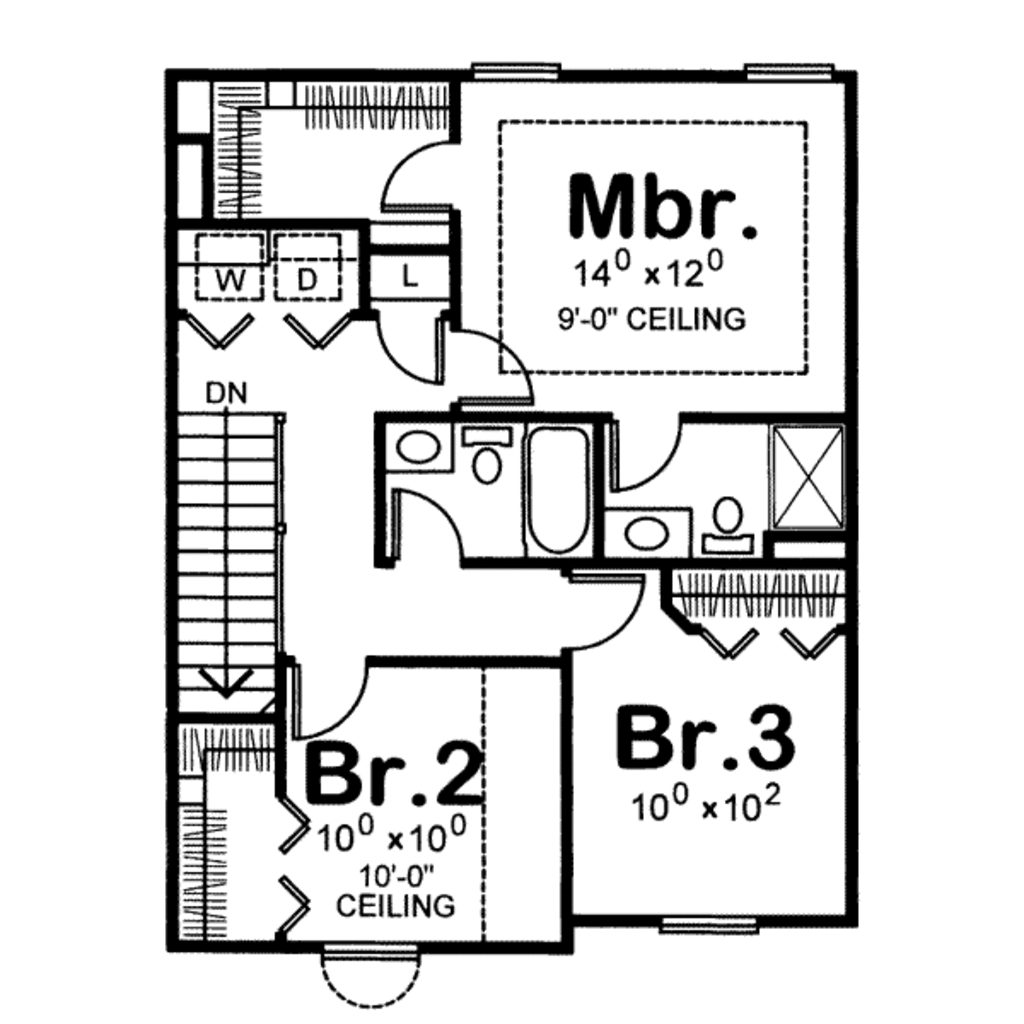door: (552, 561, 655, 657), (284, 655, 381, 747), (445, 321, 541, 408), (367, 141, 470, 211), (609, 414, 689, 496), (388, 485, 466, 564), (378, 307, 450, 385)
large_sink: (702, 492, 759, 555), (463, 424, 511, 491)
small_sink: (603, 502, 694, 560), (384, 424, 453, 472)
stairs: (166, 392, 286, 708)
tub: (516, 425, 598, 558)
window: (738, 53, 842, 85), (316, 935, 423, 966), (655, 908, 759, 936), (472, 58, 558, 83)
